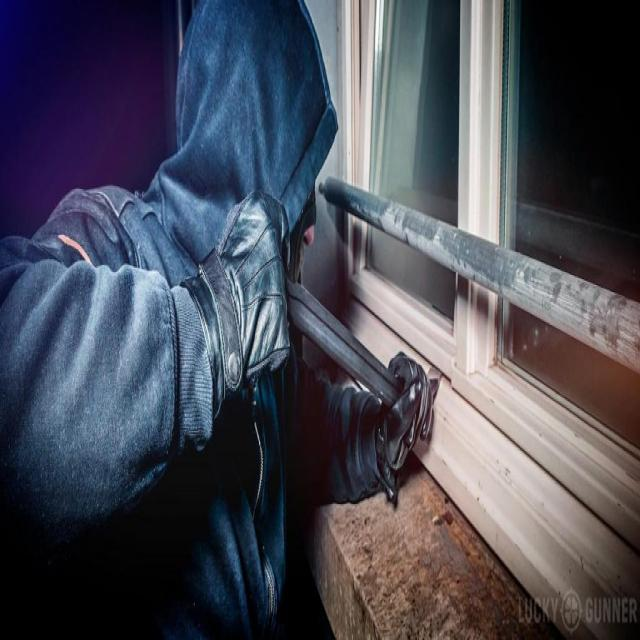intrusion detected: (0, 3, 436, 638)
